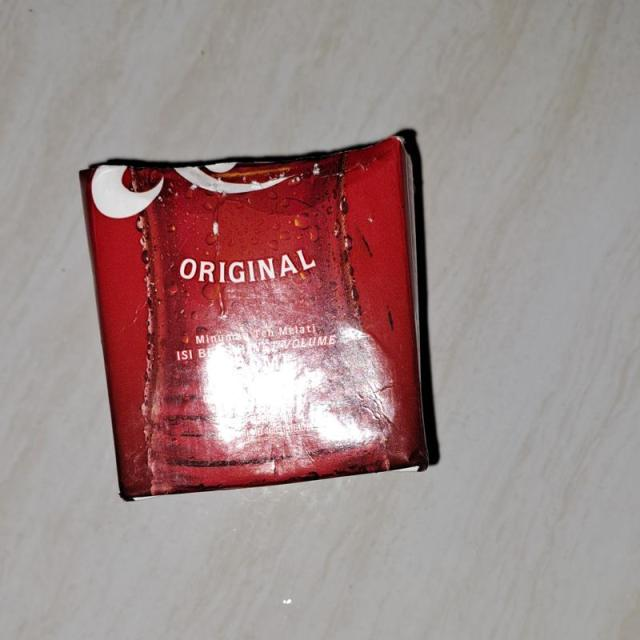Organik: (65, 130, 464, 510)
